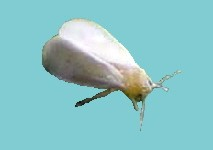whitefly: (43, 17, 187, 133)
